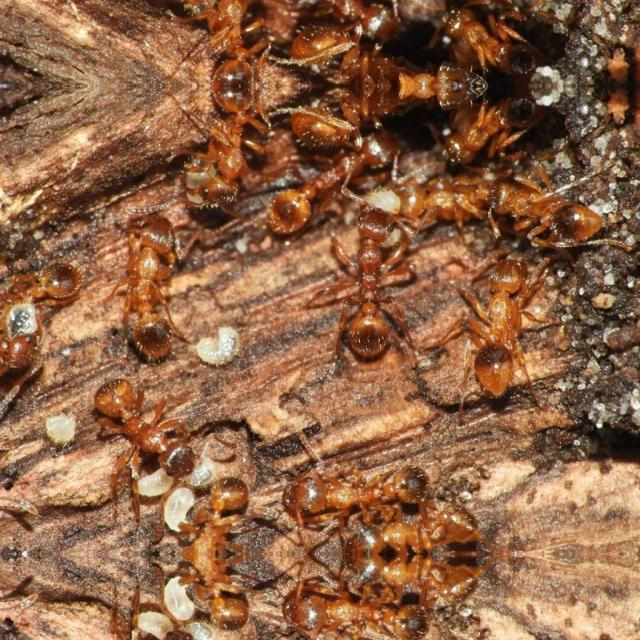Myrmica: (269, 103, 419, 244), (334, 193, 426, 381), (128, 188, 205, 398), (0, 255, 100, 399), (269, 433, 443, 512), (171, 86, 277, 208), (462, 249, 540, 396), (152, 460, 270, 554), (94, 369, 184, 489), (269, 0, 419, 68), (152, 554, 270, 640), (482, 171, 598, 255), (380, 162, 512, 234), (171, 0, 277, 86), (269, 594, 443, 640), (460, 115, 554, 181), (458, 0, 553, 56), (364, 86, 484, 124), (364, 48, 484, 86)
